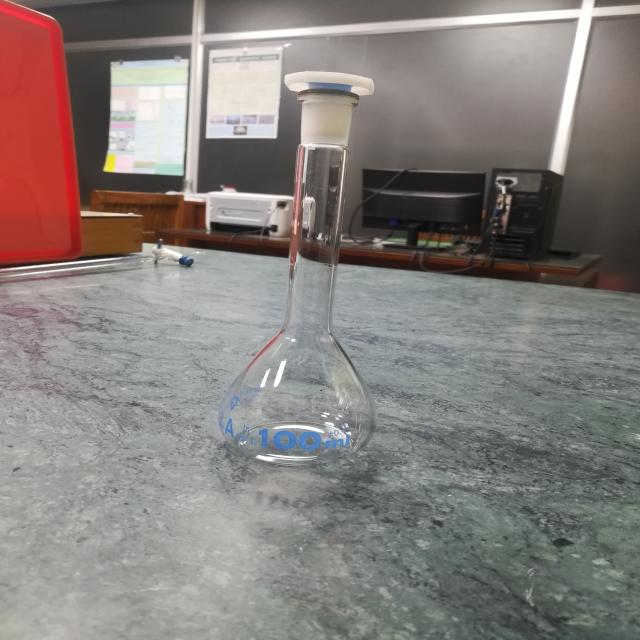Volumetric_Flask: (203, 41, 416, 487)
